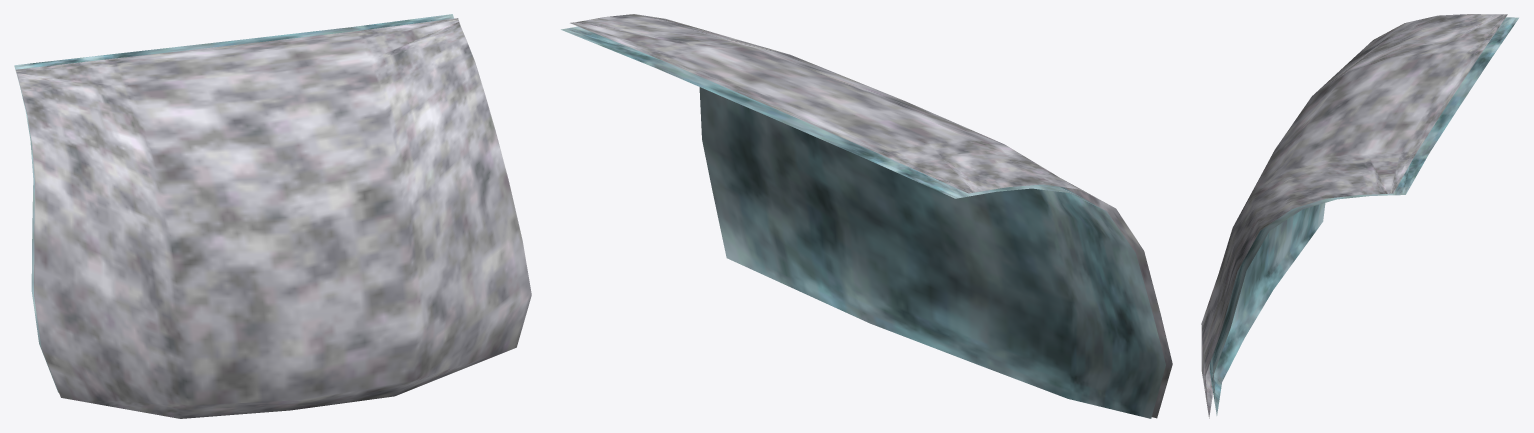
The model's file is CB_NEWPLAYSURFACE_CB_WATERFALLS05.fbx.
3 views of the same model, side by side, from view 1: azimuth 30°, elevation 25°; view 2: azimuth 150°, elevation 25°; view 3: azimuth 270°, elevation 25° (orthographic). The views are drawn at different scales.
Visible parts, largest first — view 1: CB_NEWPLAYSURFACE_CB_WATERFALLS05; view 2: CB_NEWPLAYSURFACE_CB_WATERFALLS05; view 3: CB_NEWPLAYSURFACE_CB_WATERFALLS05.
Boxes of the visible parts, <box> form: CB_NEWPLAYSURFACE_CB_WATERFALLS05: <box>14,14,531,418</box>; CB_NEWPLAYSURFACE_CB_WATERFALLS05: <box>561,14,1172,418</box>; CB_NEWPLAYSURFACE_CB_WATERFALLS05: <box>1201,14,1518,418</box>.
Bounding box in the file's own units: 95436 × 54747 × 59856.
Materials: 2 (2 with a texture image).
